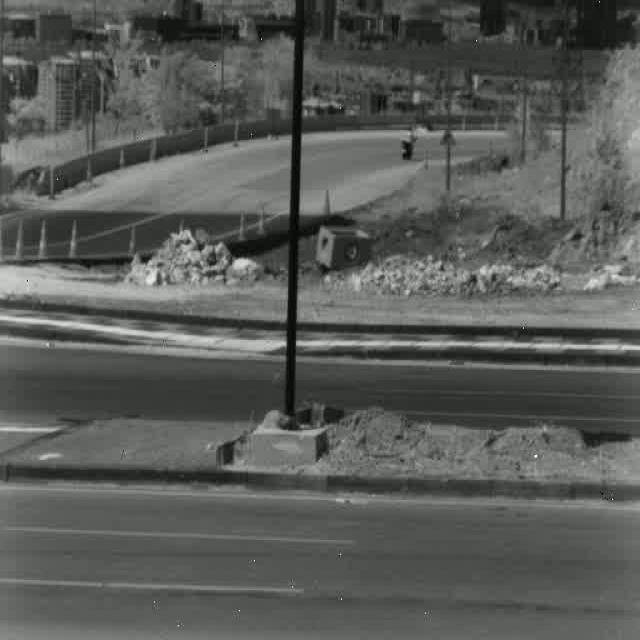Motorcycle: (400, 128, 416, 160)
